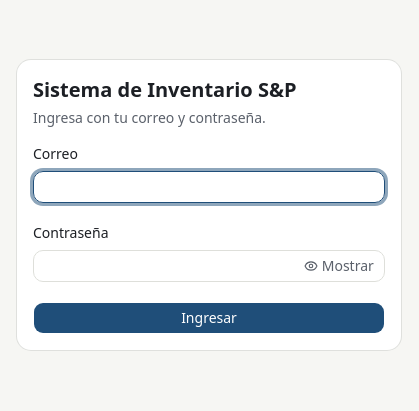
Test: Iniciar sesión › 429 muestra "Demasiados intentos"
The image size is (419, 411).
Type "contadora.demo@syp.invalid" into the field labelled "Correo" at (209, 187), box [33,171,385,203]
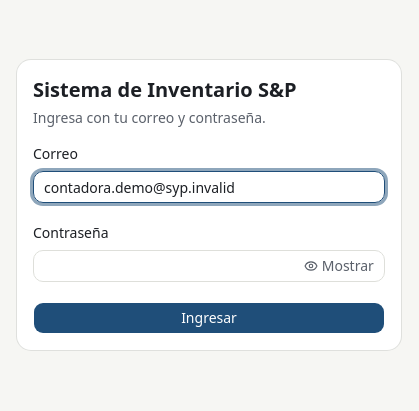
Type "incorrecta" into the password field labelled "Contraseña" at (165, 266), box [34,250,297,282]
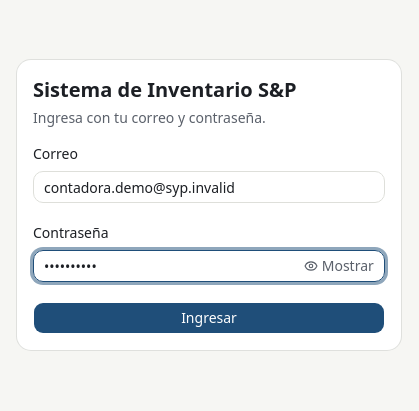
Click the button "Ingresar" at (209, 318), box [33,302,385,334]
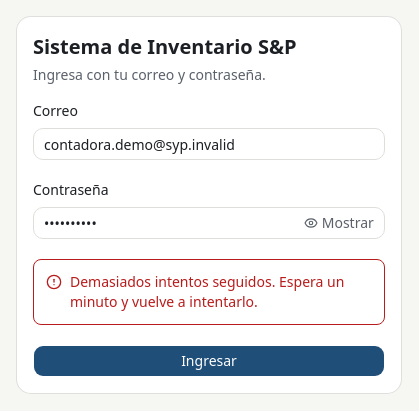
Now the message shows "Demasiados intentos seguidos", box [70,272,344,311]
